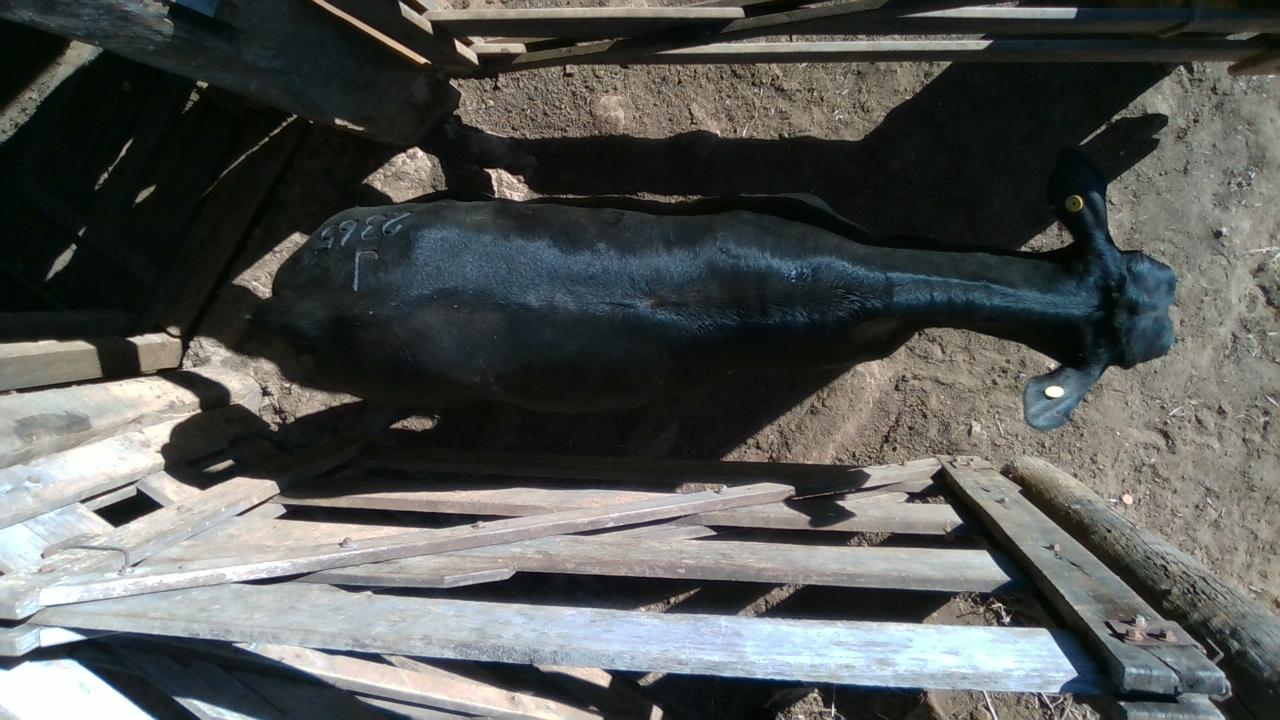cattle: (245, 145, 1178, 435)
